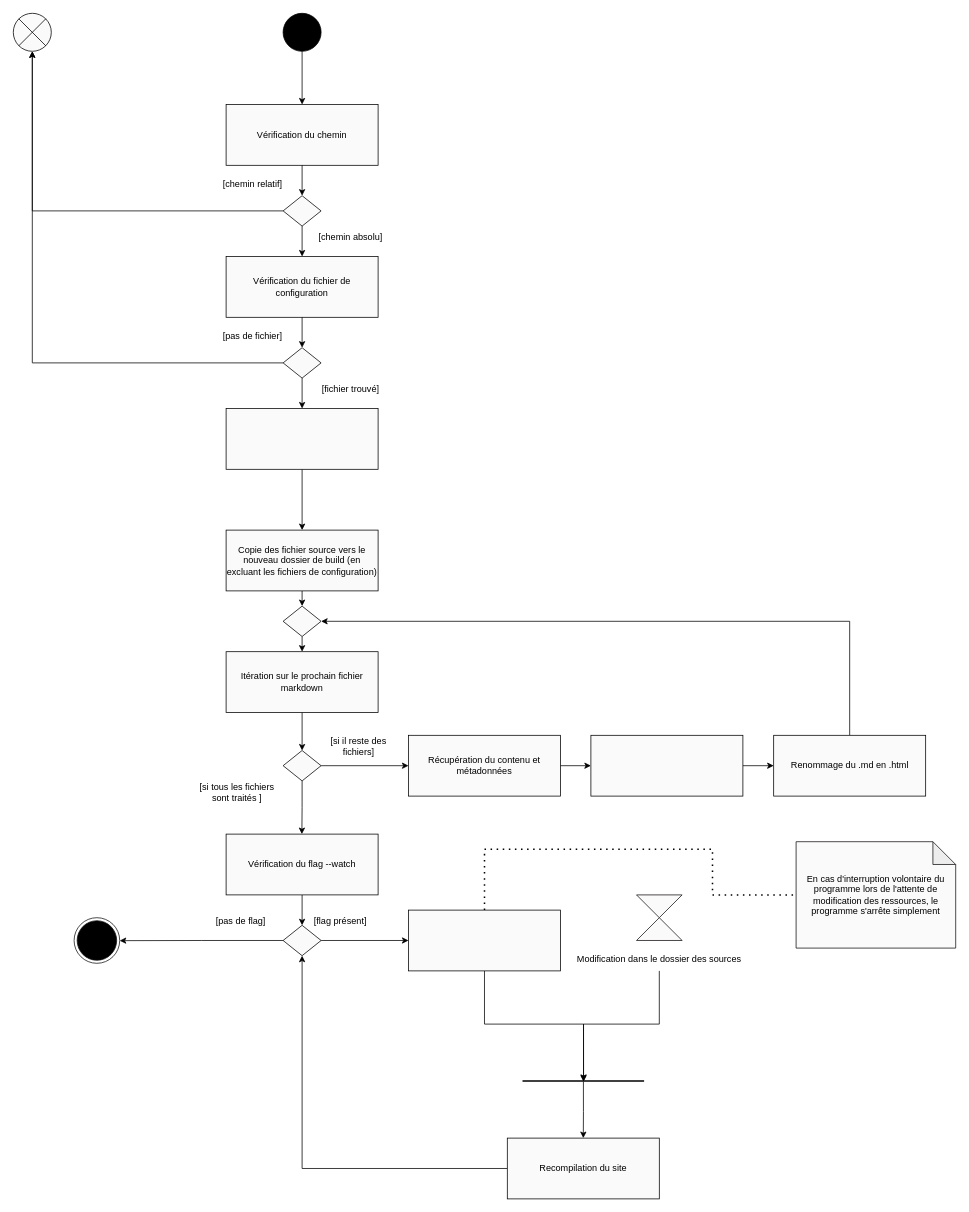
The diagram is 969 pixels wide and 1212 high, and some of its shapes have lost their labels. Here are the shapes that lost their labels. From the top down, the centre of each, then its label:
At point (301, 438): "Création du nouveau dossier de build et suppression de l'ancien s'il existe".
At point (666, 765): "Remplacement du contenu du fichier markdown par son équivalent html".
At point (484, 940): "Attente de modification dans le dossier des sources".
